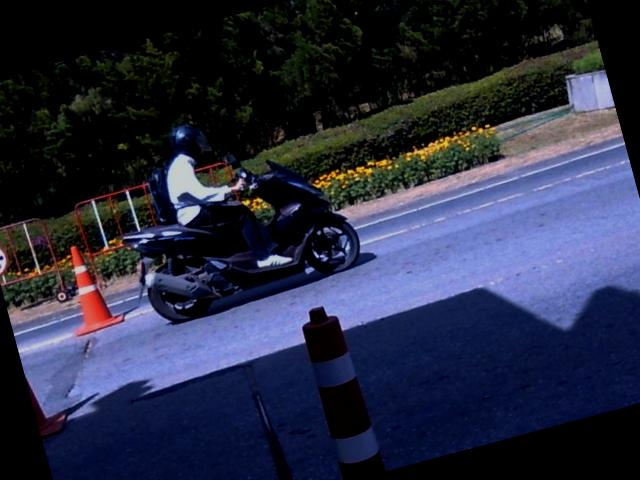helmet: (168, 125, 212, 159)
motor: (122, 160, 359, 321)
person: (166, 123, 291, 265)
